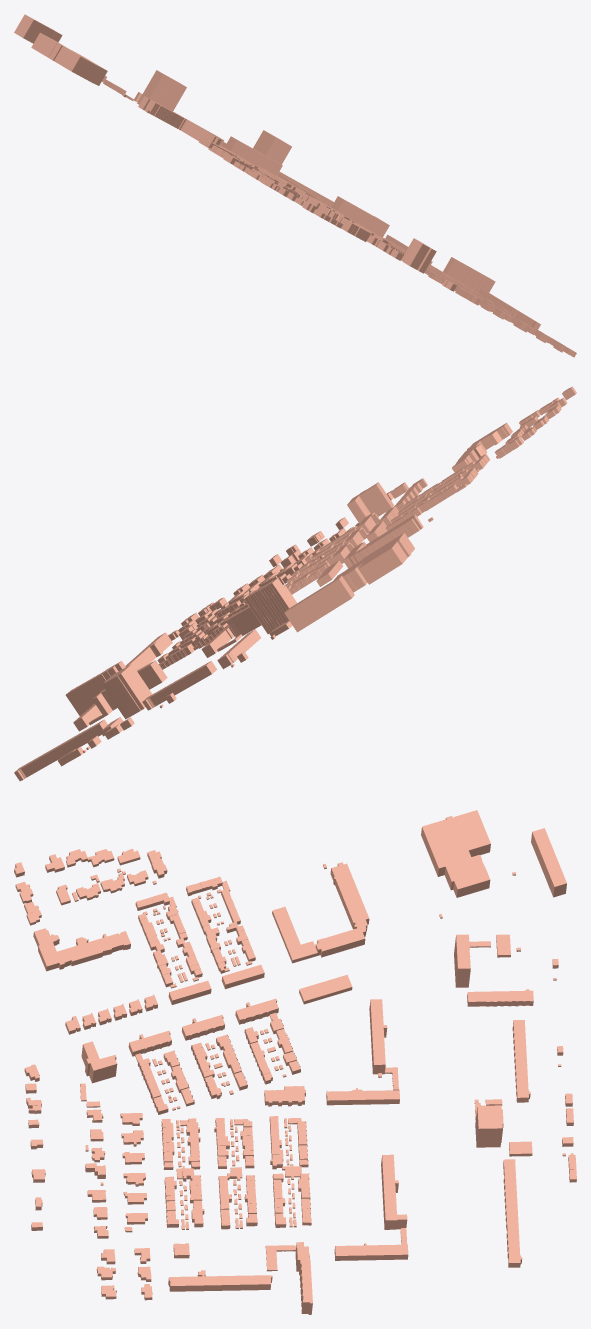
The picture shows the model from 3 angles, top to bottom: view 1: azimuth 30°, elevation 25°; view 2: azimuth 150°, elevation 25°; view 3: azimuth 270°, elevation 25°; orthographic projection. The views are drawn at different scales.
Size of the model in its own units: 523 by 389 by 625.
